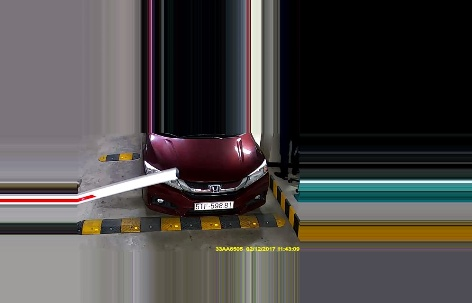plate: (193, 197, 235, 210)
